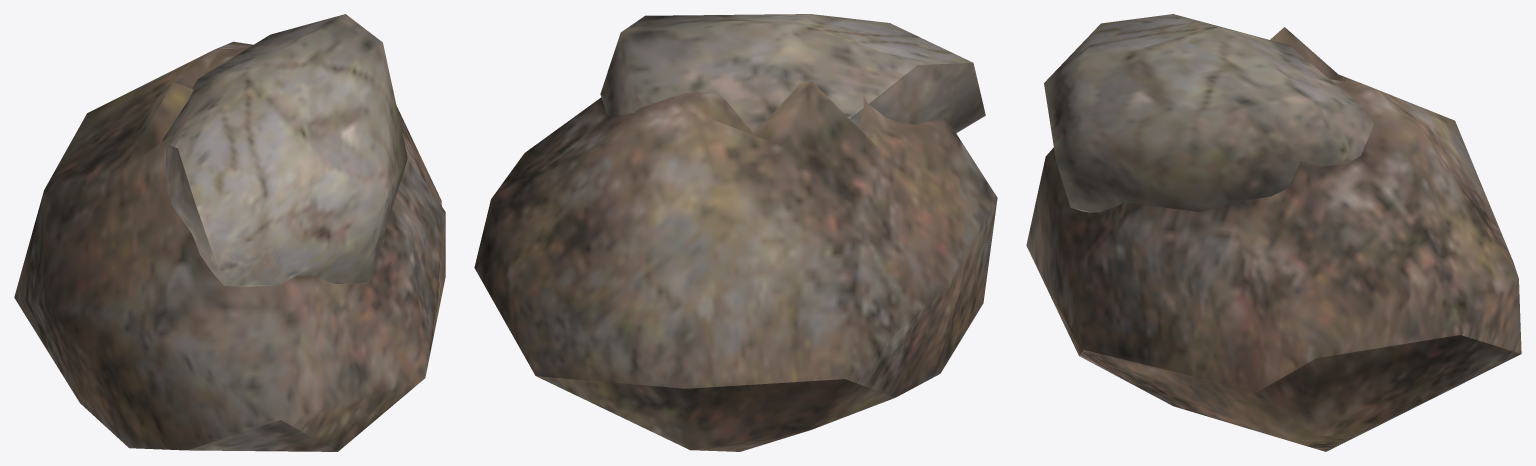
Rendered from SM_Stone12.FBX.
3 renders of one model, left to right at view 1: azimuth 30°, elevation 25°; view 2: azimuth 150°, elevation 25°; view 3: azimuth 270°, elevation 25°, orthographic. The views are drawn at different scales.
Visible parts, largest first — view 1: SM_Stone12; view 2: SM_Stone12; view 3: SM_Stone12.
Part boxes in pixels (bbox=[...]): SM_Stone12: bbox=[14, 14, 445, 451]; SM_Stone12: bbox=[474, 14, 997, 451]; SM_Stone12: bbox=[1026, 14, 1521, 451].
Size of the model in its own units: 105 by 112 by 93.89.
